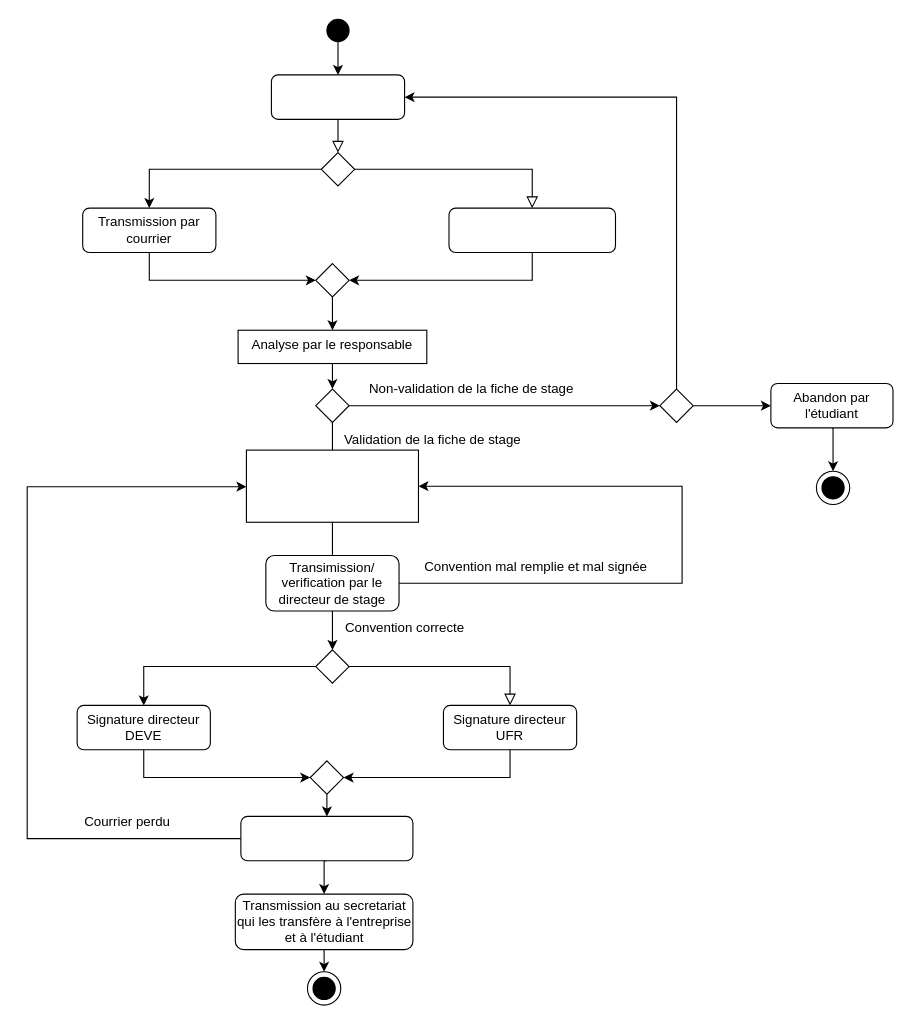
Image size: 912x1025. Some labels were removed from this diagram. Each missing label, with the centre of its shape:
Etudiant remplit/signe la convention de stage puis entreprise remplit/signe: the point at 331,485
Remplir fiche de stage: the point at 337,96
Retour au directeur de stage (garde un exemplaire): the point at 326,838
Transmission par mail: the point at 531,230
